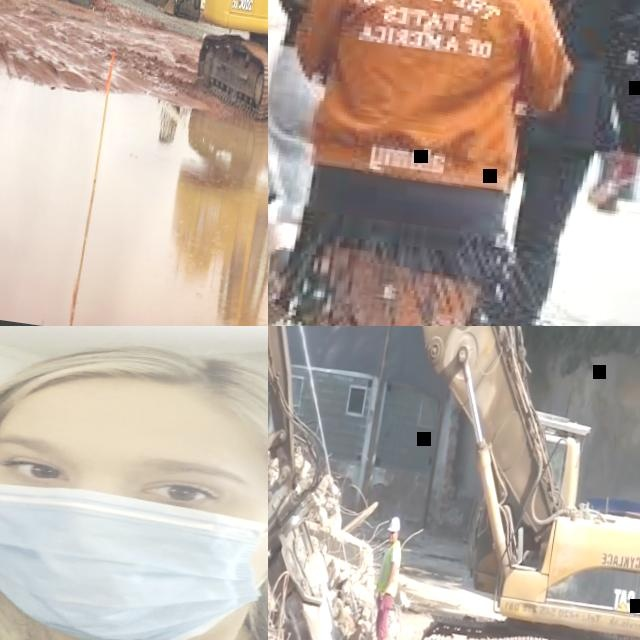Hardhat: (388, 516, 403, 533)
Mask: (0, 478, 259, 640)
NO-Hardhat: (0, 331, 268, 478)
NO-Mask: (389, 534, 397, 544)
NO-Safety Vest: (310, 0, 555, 180), (477, 0, 631, 140), (278, 0, 384, 53)
Person: (268, 0, 583, 326), (0, 326, 268, 640), (411, 0, 640, 326), (268, 0, 422, 326), (564, 0, 640, 224), (367, 513, 410, 640)
Safety Vest: (377, 546, 404, 597)
machinery: (268, 326, 640, 640), (157, 0, 215, 21)
